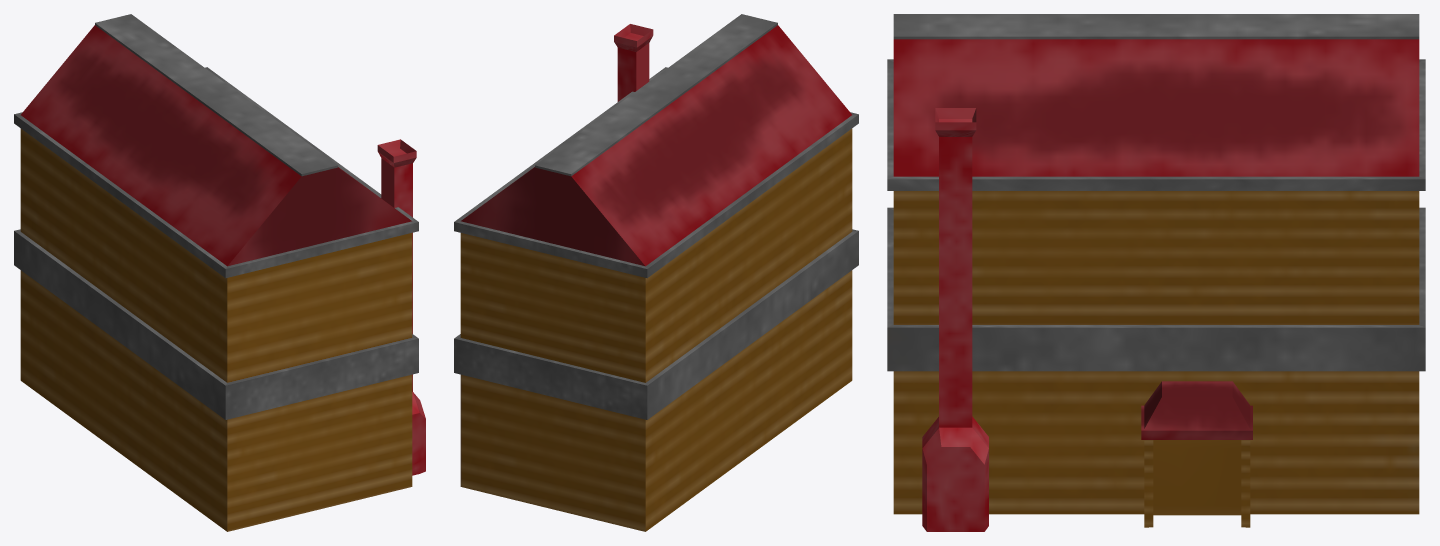
The model's file is BlackSmith.fbx.
3 renders of one model, left to right at view 1: azimuth 30°, elevation 25°; view 2: azimuth 150°, elevation 25°; view 3: azimuth 270°, elevation 25°, orthographic. The views are drawn at different scales.
Visible parts, largest first — view 1: Cube; view 2: Cube; view 3: Cube.
Part boxes in pixels (x1,y1,x2,y2): Cube: (14, 14, 425, 531); Cube: (454, 14, 858, 531); Cube: (887, 14, 1425, 531).
Size of the model in its own units: 559 by 791 by 891.
Materials: 1 (1 with a texture image).
